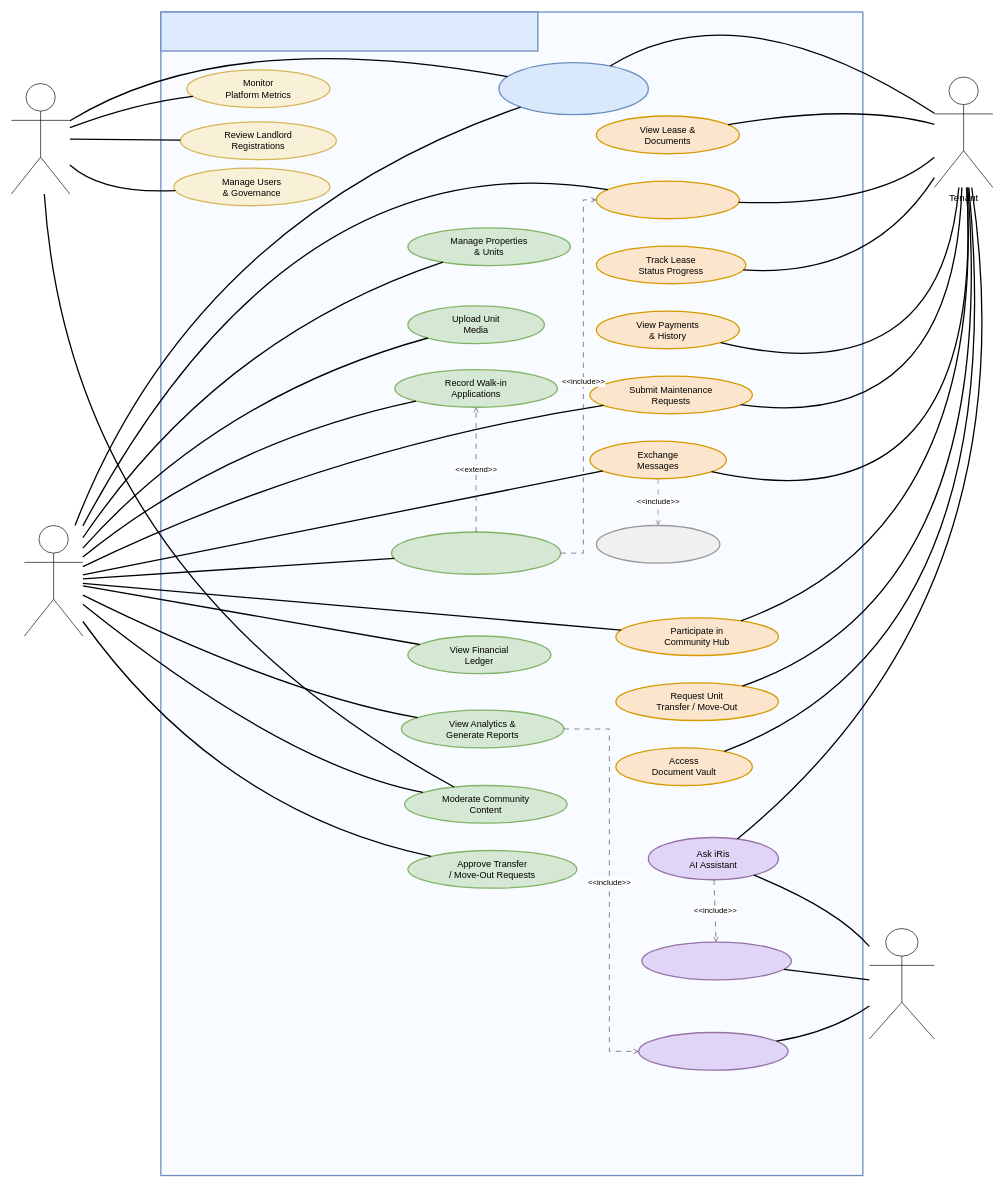
Some shapes in this 1004 by 1187 pixel diagram are drawn without their labels. Each missing label, with the centre of its shape:
"Complete Lease Signing" goes at point (667, 199).
"External AI Service" goes at point (901, 983).
"Filter Unsafe Content" goes at point (657, 544).
"Finalize Lease & Onboard Tenant" goes at point (476, 553).
"Generate AI-Driven Insights" goes at point (713, 1051).
"iReside Property Management System" goes at point (349, 31).
"Landlord" goes at point (53, 580).
"Provide AI Fallback Response" goes at point (716, 960).
"Sign In & Access Role Portal" goes at point (573, 88).
"Super Administrator" goes at point (40, 138).
